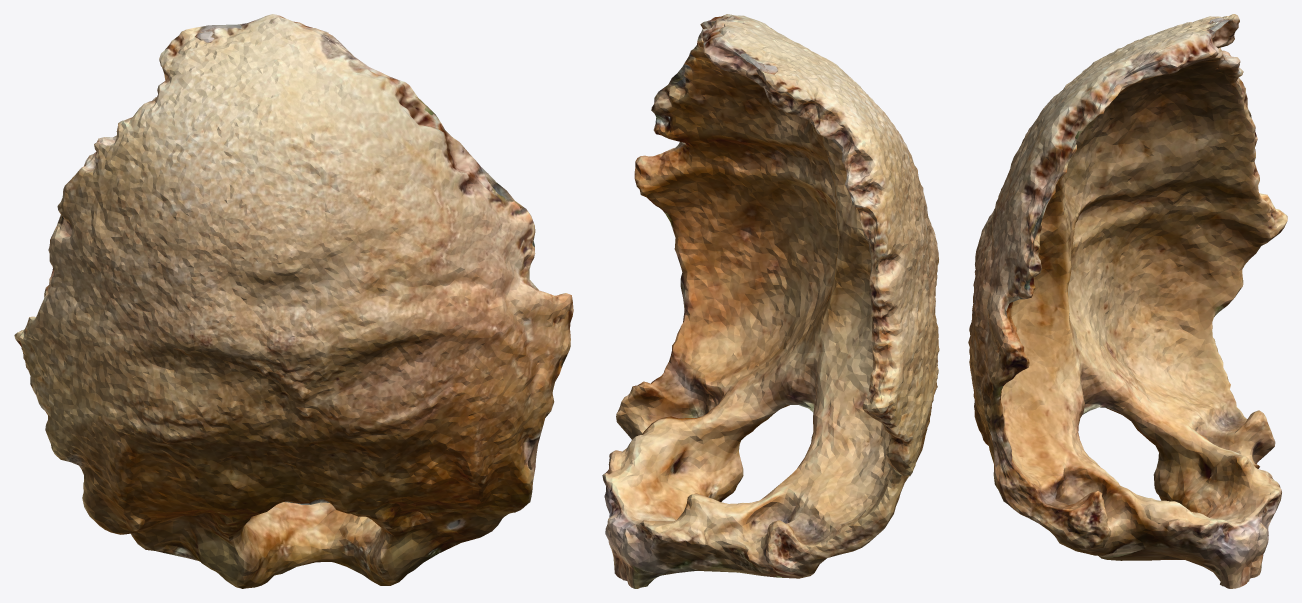
The model's file is aula-03-occiptal.fbx.
The picture shows the model from 3 angles, left to right: view 1: azimuth 30°, elevation 25°; view 2: azimuth 150°, elevation 25°; view 3: azimuth 270°, elevation 25°; orthographic projection. The views are drawn at different scales.
Visible parts, largest first — view 1: Node 115236; view 2: Node 115236; view 3: Node 115236.
Part boxes in pixels (x1,y1,x2,y2): Node 115236: (14, 14, 573, 588); Node 115236: (602, 14, 939, 588); Node 115236: (968, 14, 1287, 588).
Bounding box in the file's own units: 0.0544 × 0.0718 × 0.0405.
1 material, 1 textured.
